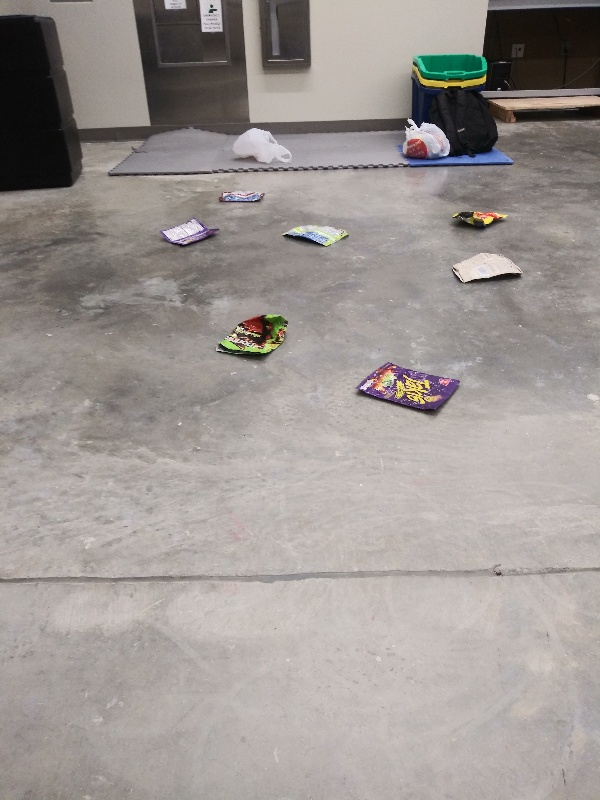bag: (351, 359, 464, 416), (213, 311, 297, 362), (450, 250, 528, 287), (158, 214, 223, 249), (449, 206, 518, 231), (280, 222, 354, 245), (217, 187, 269, 204)
